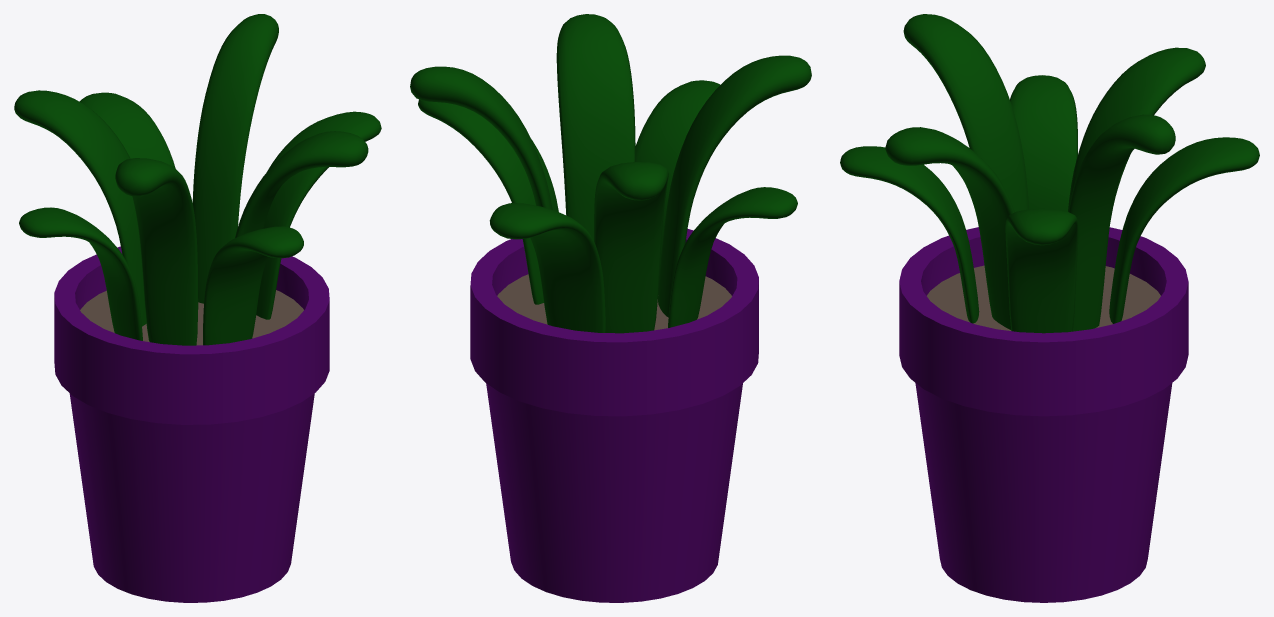
Rendered from Plante3_6.fbx.
The picture shows the model from 3 angles, left to right: view 1: azimuth 30°, elevation 25°; view 2: azimuth 150°, elevation 25°; view 3: azimuth 270°, elevation 25°; orthographic projection. The views are drawn at different scales.
Parts seen in each view (by area): view 1: pCylinder728, pCube1923, pCube1927, pCube1921, pCube1926, pCube1928, pCube1925, pCube1922, pCube1924, pCylinder729; view 2: pCylinder728, pCube1922, pCube1921, pCube1927, pCube1924, pCube1928, pCube1923, pCube1925, pCube1926, pCylinder729; view 3: pCylinder728, pCube1927, pCube1923, pCube1925, pCube1922, pCube1928, pCube1924, pCube1921, pCube1926, pCylinder729.
Part boxes in pixels (x1,y1,x2,y2): pCylinder728: [54, 246, 329, 602]; pCube1923: [192, 14, 278, 303]; pCube1927: [115, 158, 198, 345]; pCube1921: [14, 90, 146, 326]; pCube1926: [203, 226, 303, 345]; pCube1928: [19, 207, 142, 340]; pCube1925: [256, 111, 381, 319]; pCube1922: [235, 131, 368, 237]; pCube1924: [79, 92, 175, 168]; pCylinder729: [80, 290, 303, 345]; pCylinder728: [470, 229, 758, 602]; pCube1922: [556, 14, 635, 240]; pCube1921: [594, 162, 668, 333]; pCube1927: [658, 55, 811, 317]; pCube1924: [489, 203, 605, 332]; pCube1928: [668, 187, 797, 327]; pCube1923: [410, 66, 552, 209]; pCube1925: [418, 99, 558, 304]; pCube1926: [635, 80, 720, 279]; pCylinder729: [497, 274, 731, 330]; pCylinder728: [899, 227, 1188, 602]; pCube1927: [903, 14, 1028, 211]; pCube1923: [1068, 114, 1175, 331]; pCube1925: [1005, 208, 1078, 333]; pCube1922: [885, 127, 1014, 329]; pCube1928: [1010, 75, 1077, 211]; pCube1924: [1109, 137, 1259, 323]; pCube1921: [1068, 47, 1205, 221]; pCube1926: [840, 146, 979, 323]; pCylinder729: [927, 265, 1160, 330].
Bounding box in the file's own units: 16.65 × 21.34 × 16.27.
